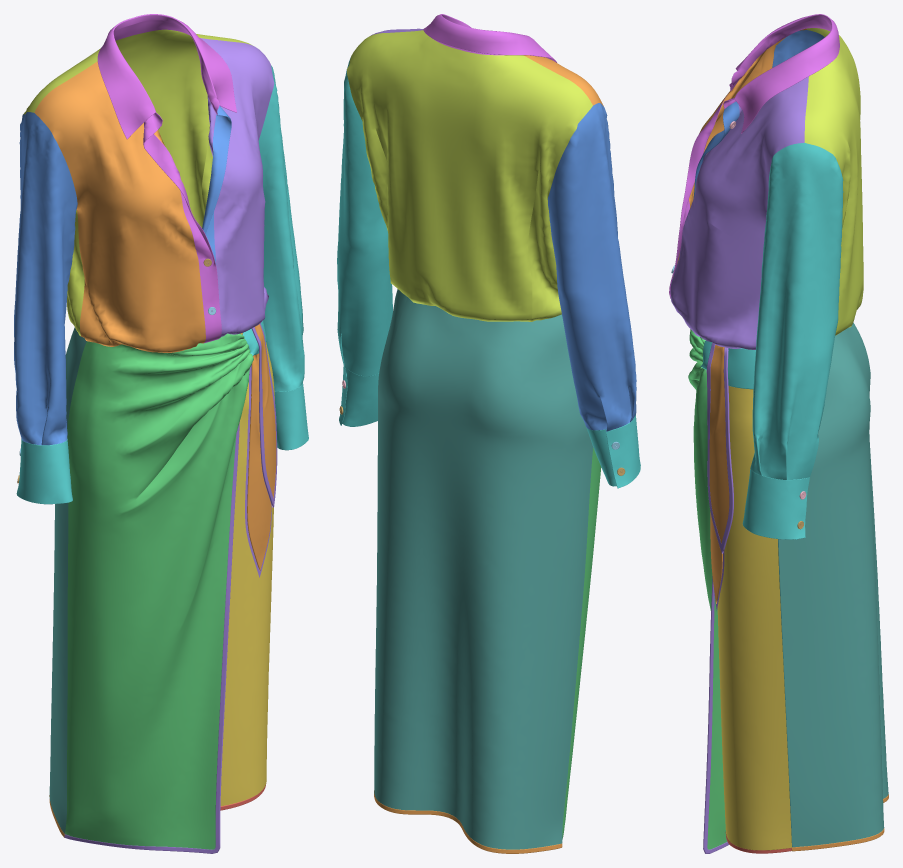
File: components.glb
3 renders of one model, left to right at view 1: azimuth 30°, elevation 25°; view 2: azimuth 150°, elevation 25°; view 3: azimuth 270°, elevation 25°, orthographic. The views are drawn at different scales.
Visible parts, largest first — view 1: Object_3, Object_8, Object_4, Object_9, Object_7, Object_5, Object_10, Object_6, Object_11; view 2: Object_11, Object_10, Object_4, Object_7, Object_6, Object_3, Object_8; view 3: Object_11, Object_7, Object_5, Object_9, Object_10, Object_6, Object_3, Object_8, Object_4.
Boxes of the visible parts, x1=… form: Object_3: x1=65, y1=333, x2=253, y2=849; Object_8: x1=34, y1=61, x2=276, y2=837; Object_4: x1=14, y1=105, x2=231, y2=445; Object_9: x1=64, y1=38, x2=277, y2=853; Object_7: x1=16, y1=65, x2=308, y2=504; Object_5: x1=220, y1=333, x2=274, y2=806; Object_10: x1=23, y1=29, x2=252, y2=336; Object_6: x1=97, y1=14, x2=236, y2=343; Object_11: x1=49, y1=327, x2=86, y2=833; Object_11: x1=374, y1=289, x2=593, y2=849; Object_10: x1=347, y1=30, x2=592, y2=321; Object_4: x1=547, y1=103, x2=636, y2=431; Object_7: x1=337, y1=57, x2=640, y2=488; Object_6: x1=423, y1=14, x2=556, y2=62; Object_3: x1=562, y1=448, x2=601, y2=839; Object_8: x1=374, y1=55, x2=603, y2=853; Object_11: x1=778, y1=322, x2=888, y2=847; Object_7: x1=700, y1=142, x2=843, y2=539; Object_5: x1=717, y1=386, x2=791, y2=850; Object_9: x1=670, y1=76, x2=808, y2=853; Object_10: x1=804, y1=28, x2=863, y2=335; Object_6: x1=669, y1=14, x2=839, y2=298; Object_3: x1=688, y1=329, x2=727, y2=849; Object_8: x1=673, y1=28, x2=888, y2=851; Object_4: x1=671, y1=30, x2=824, y2=285.
Bounding box in the file's own units: 0.4873 × 1.29 × 0.313.
